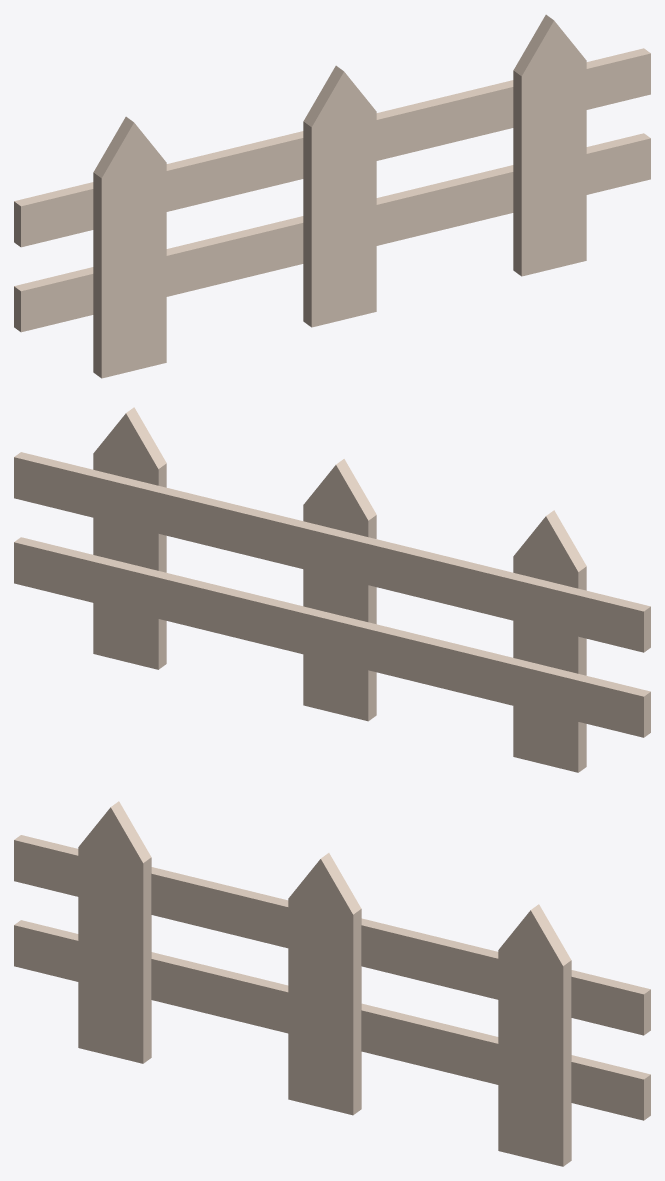
File: Fence.fbx
The picture shows the model from 3 angles, top to bottom: view 1: azimuth 30°, elevation 25°; view 2: azimuth 150°, elevation 25°; view 3: azimuth 330°, elevation 25°; orthographic projection.
Parts seen in each view (by area): view 1: Cube.004; view 2: Cube.004; view 3: Cube.004.
Part boxes in pixels (x1=…): Cube.004: x1=14, y1=14, x2=650, y2=378; Cube.004: x1=14, y1=407, x2=650, y2=772; Cube.004: x1=14, y1=801, x2=650, y2=1166.
Bounding box in the file's own units: 416 × 157 × 18.2.
